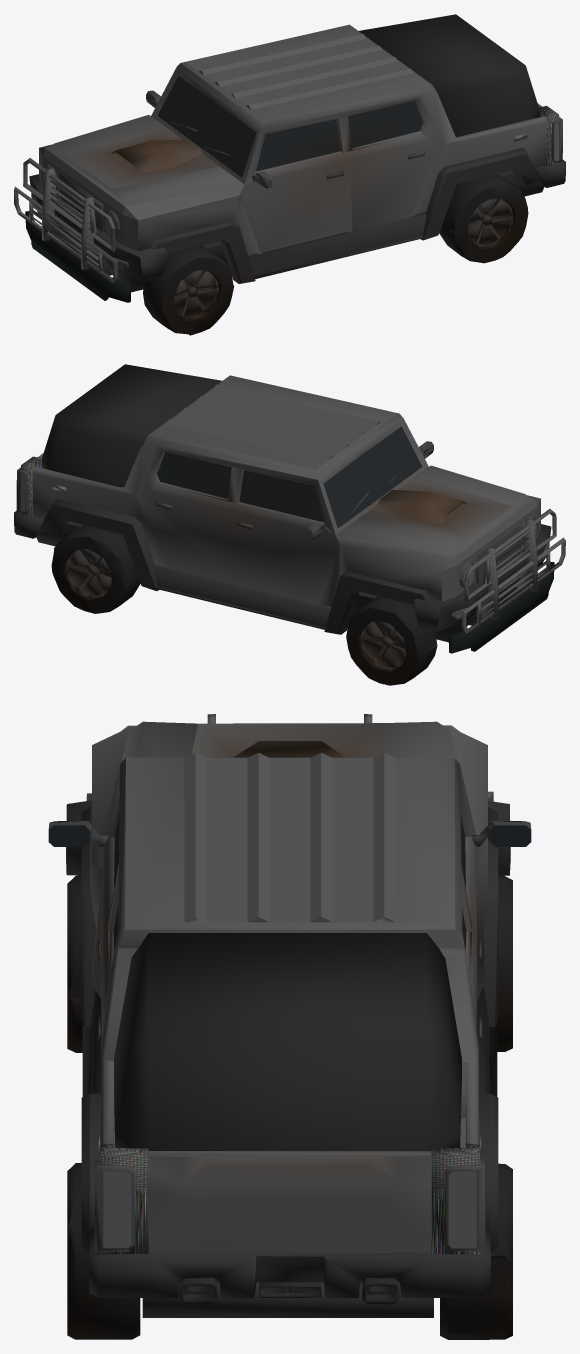
The model's file is city_car_3.glb.
3 renders of one model, top to bottom at view 1: azimuth 30°, elevation 25°; view 2: azimuth 150°, elevation 25°; view 3: azimuth 270°, elevation 25°, orthographic. The views are drawn at different scales.
Visible parts, largest first — view 1: city_car_3; view 2: city_car_3; view 3: city_car_3.
Part boxes in pixels (x1,y1,x2,y2): city_car_3: (14, 14, 565, 335); city_car_3: (14, 364, 565, 685); city_car_3: (48, 714, 531, 1339).
Bounding box in the file's own units: 4.4 × 1.72 × 2.01.
Materials: 1 (1 with a texture image).
